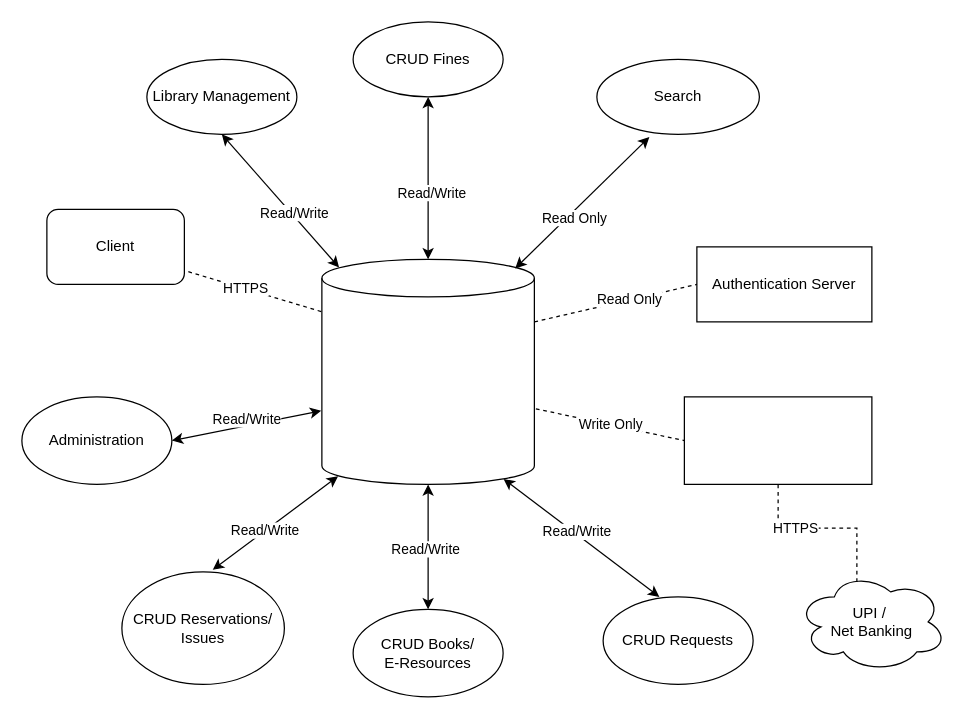
Image size: 969x719. Some labels were removed from this diagram. Here are the shapes that lost their labels. From the top down, the box of each, then its label:
(321, 258, 534, 484): Data Repository
(683, 396, 872, 484): Payment Gateway
